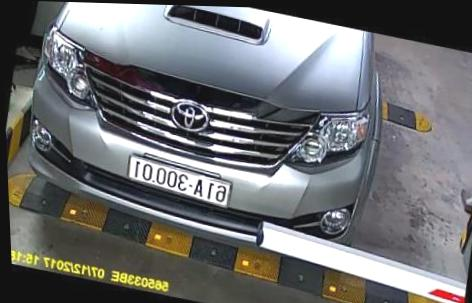License_Plate: (124, 151, 236, 213)
